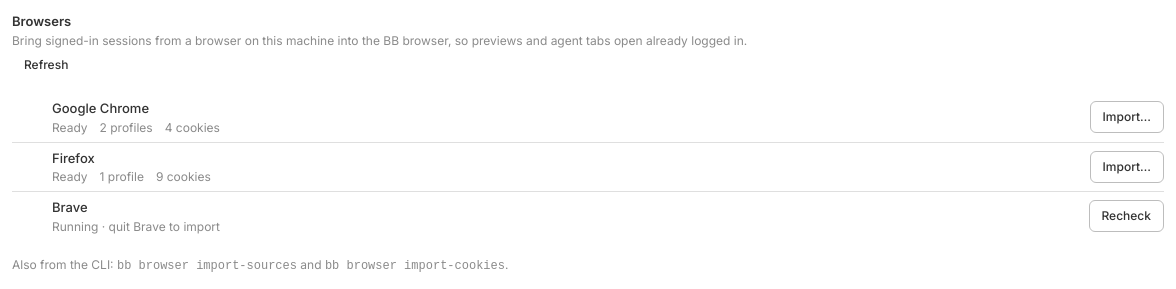
BrowserSettingsSectionContent › rechecks a running browser from its row
Expected: the text "Brave" is shown, [52,198,88,217]
What coordinates should you click on to do the following:
click the button "Recheck"
I would click on:
 (1126, 216)
Its box is [1088,200,1164,232].
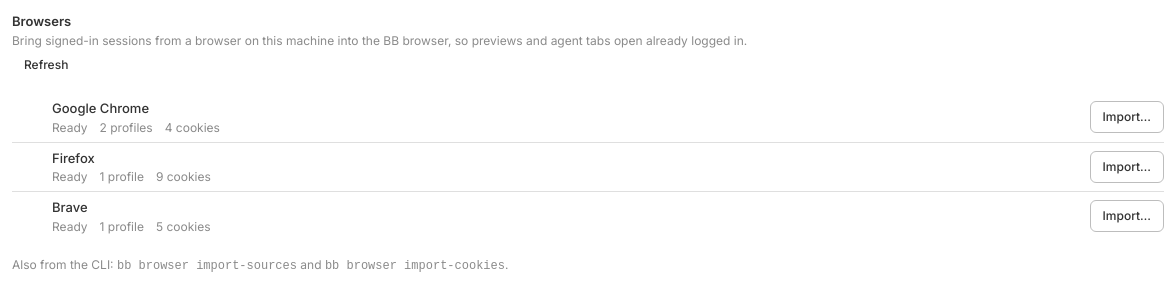
Expected: the text "5 cookies" is shown, [156,219,210,235]
